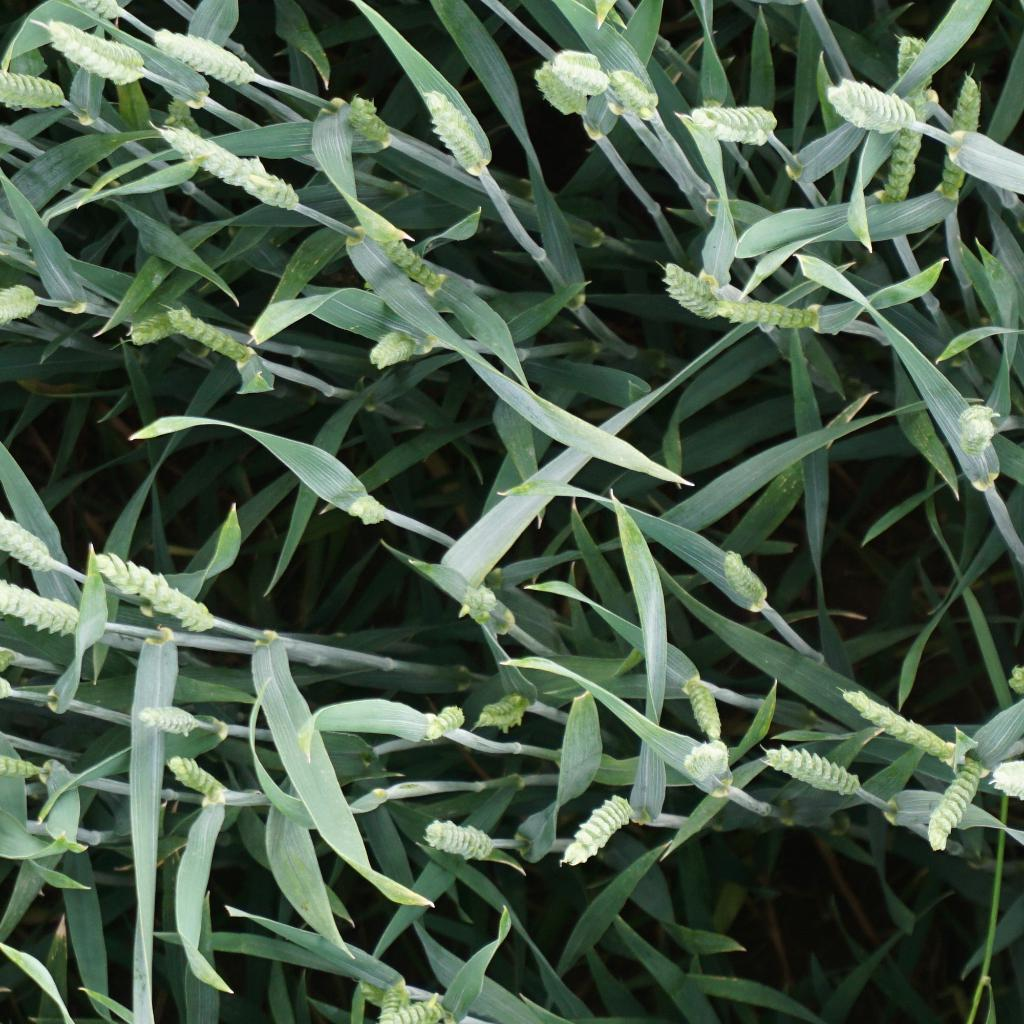0-0: (152, 119, 307, 216), (82, 547, 220, 630), (836, 683, 963, 763), (40, 19, 157, 93), (0, 575, 108, 654), (557, 782, 647, 871), (143, 24, 264, 88), (756, 739, 874, 802), (414, 83, 489, 176), (877, 82, 931, 209), (829, 67, 920, 140), (920, 745, 978, 859), (943, 62, 984, 208), (154, 304, 254, 363), (0, 486, 67, 574), (361, 223, 439, 288), (679, 100, 782, 149), (652, 257, 726, 324), (712, 291, 829, 331), (419, 811, 499, 868), (523, 60, 591, 119), (713, 551, 772, 615), (598, 65, 664, 121), (165, 747, 216, 816), (678, 674, 728, 742), (0, 65, 76, 109), (670, 736, 739, 784), (365, 324, 426, 375), (957, 399, 1006, 462), (376, 991, 468, 1024), (473, 688, 537, 734), (540, 53, 609, 95), (887, 29, 935, 86), (346, 92, 393, 146), (133, 701, 203, 736), (119, 311, 187, 347), (456, 577, 503, 628), (422, 699, 467, 747), (0, 283, 51, 324), (0, 745, 44, 789), (345, 493, 388, 525), (549, 48, 603, 72)
